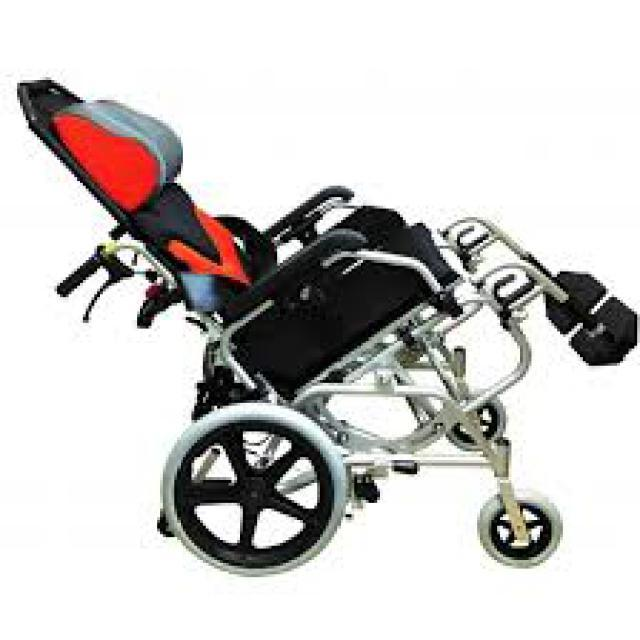wheelchair: (14, 57, 637, 589)
